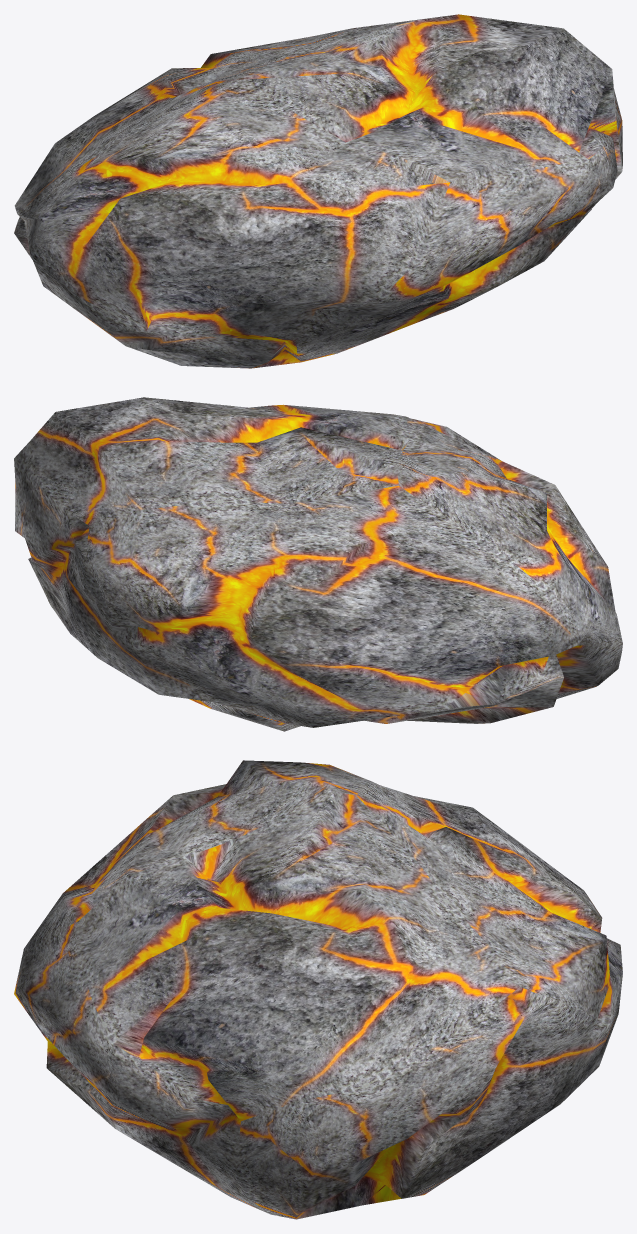
Rendered from Asteroid_08_L2.FBX.
3 renders of one model, top to bottom at view 1: azimuth 30°, elevation 25°; view 2: azimuth 150°, elevation 25°; view 3: azimuth 270°, elevation 25°, orthographic. The views are drawn at different scales.
Visible parts, largest first — view 1: Asteroid; view 2: Asteroid; view 3: Asteroid.
Part boxes in pixels (x1,y1,x2,y2): Asteroid: [14, 14, 622, 368]; Asteroid: [14, 397, 622, 731]; Asteroid: [14, 760, 622, 1219].
Bounding box in the file's own units: 4.05 × 1.72 × 3.04.
